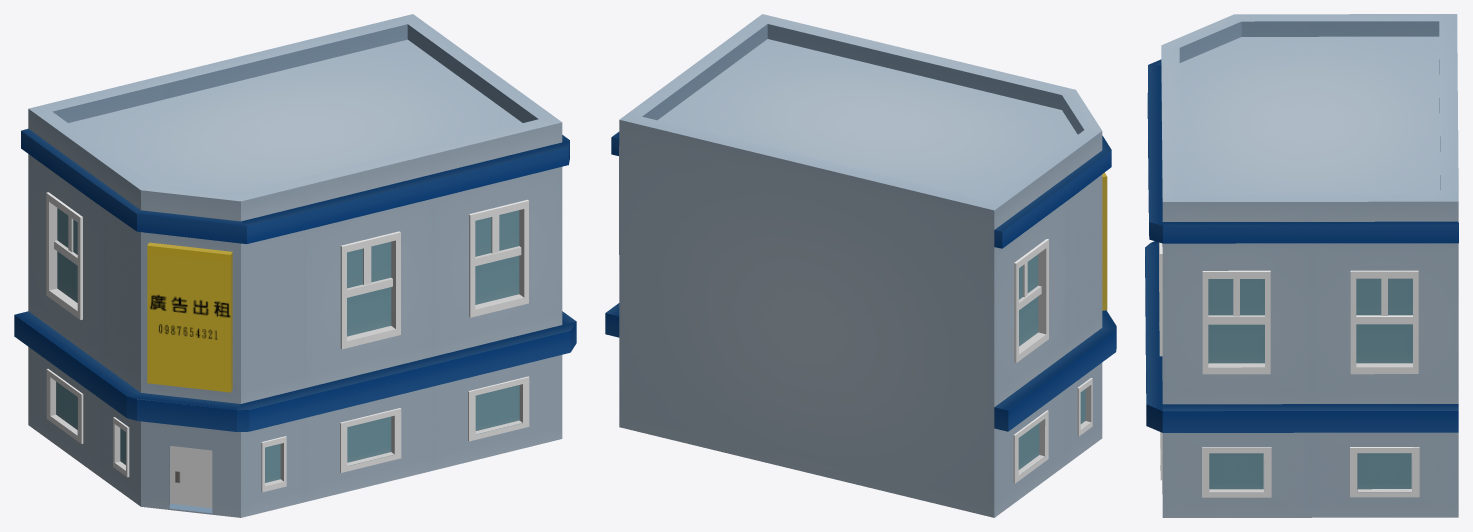
File: House_10_UV_Color.fbx
3 views of the same model, side by side, from view 1: azimuth 30°, elevation 25°; view 2: azimuth 150°, elevation 25°; view 3: azimuth 270°, elevation 25° (orthographic). The views are drawn at different scales.
Visible parts, largest first — view 1: House_10_UV_Color; view 2: House_10_UV_Color; view 3: House_10_UV_Color.
Part boxes in pixels (box(x1,y1,x2,y2)): House_10_UV_Color: box(14, 14, 576, 517); House_10_UV_Color: box(605, 14, 1116, 517); House_10_UV_Color: box(1145, 14, 1458, 517).
Size of the model in its own units: 1781 by 1299 by 1169.
